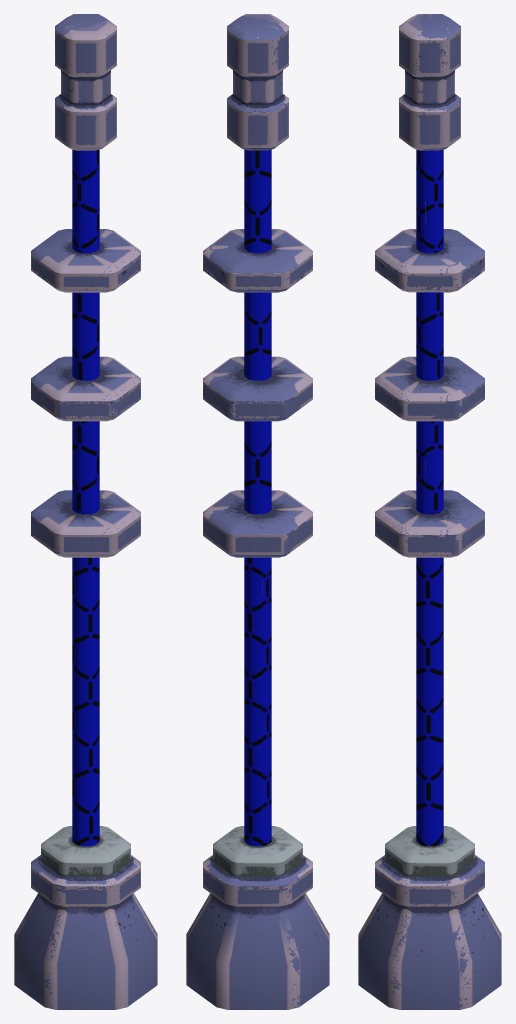
File: SM_Props_41.fbx
3 views of the same model, side by side, from view 1: azimuth 30°, elevation 25°; view 2: azimuth 150°, elevation 25°; view 3: azimuth 270°, elevation 25° (orthographic).
Visible parts, largest first — view 1: SM_Props_41; view 2: SM_Props_41; view 3: SM_Props_41.
Part boxes in pixels (x1,y1,x2,y2): SM_Props_41: (14, 14, 157, 1009); SM_Props_41: (186, 14, 329, 1009); SM_Props_41: (358, 14, 501, 1009).
Size of the model in its own units: 32.91 by 36.14 by 267.
